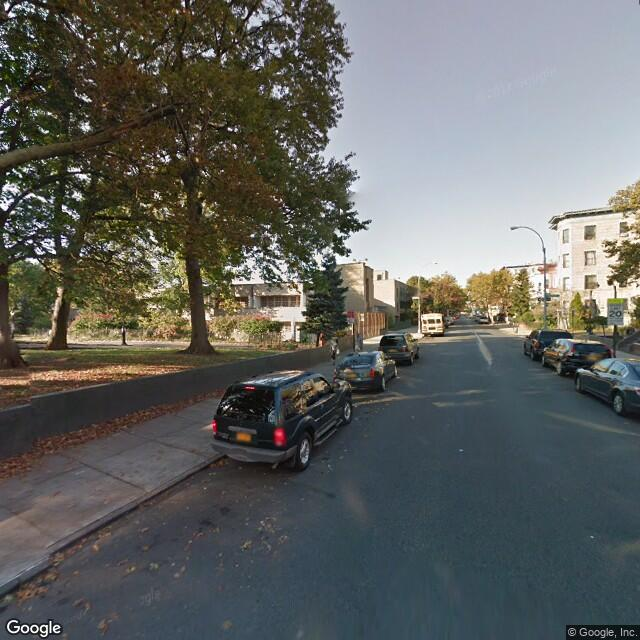litter: (454, 446, 463, 459)
